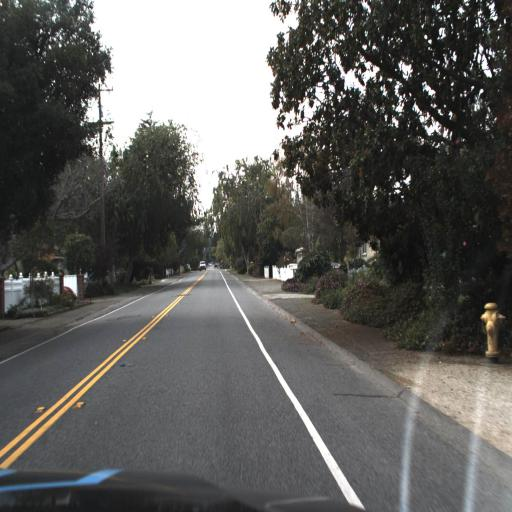car: (200, 262, 206, 272)
